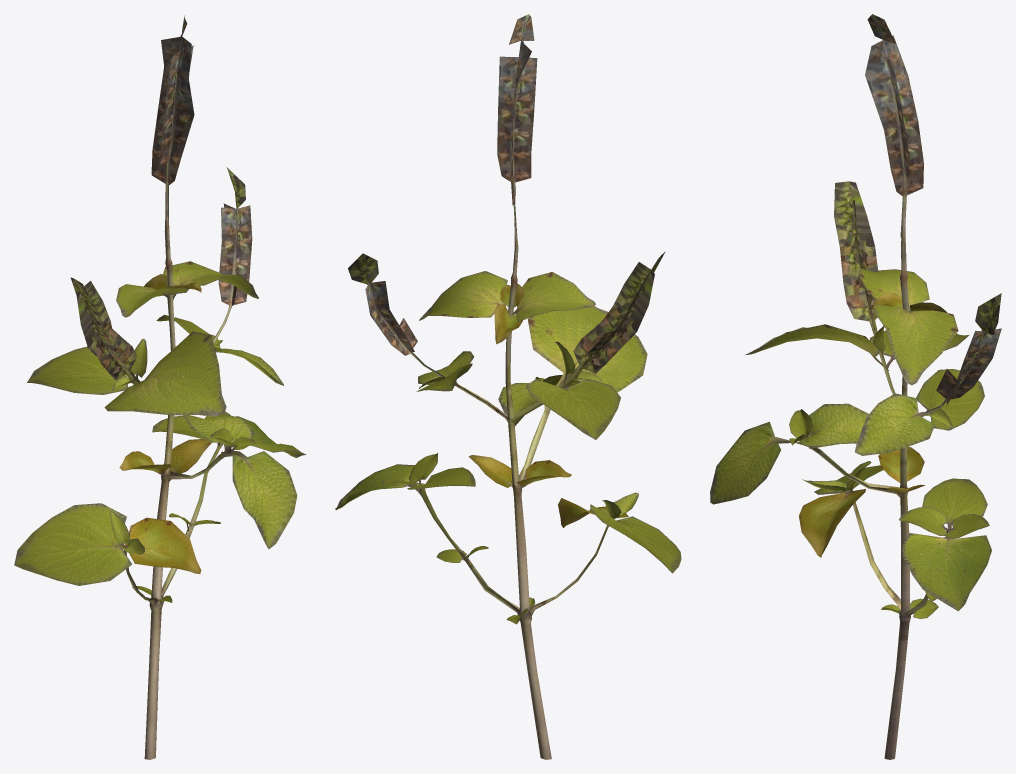
Rendered from shrub_03_d.gltf.
3 views of the same model, side by side, from view 1: azimuth 30°, elevation 25°; view 2: azimuth 150°, elevation 25°; view 3: azimuth 270°, elevation 25° (orthographic). The views are drawn at different scales.
Visible parts, largest first — view 1: shrub_03_d; view 2: shrub_03_d; view 3: shrub_03_d.
Part boxes in pixels (<box>): shrub_03_d: <box>14,15,306,759</box>; shrub_03_d: <box>335,14,681,759</box>; shrub_03_d: <box>710,14,1001,759</box>.
Bounding box in the file's own units: 0.1128 × 0.2556 × 0.0893.
Materials: 1 (1 with a texture image).
